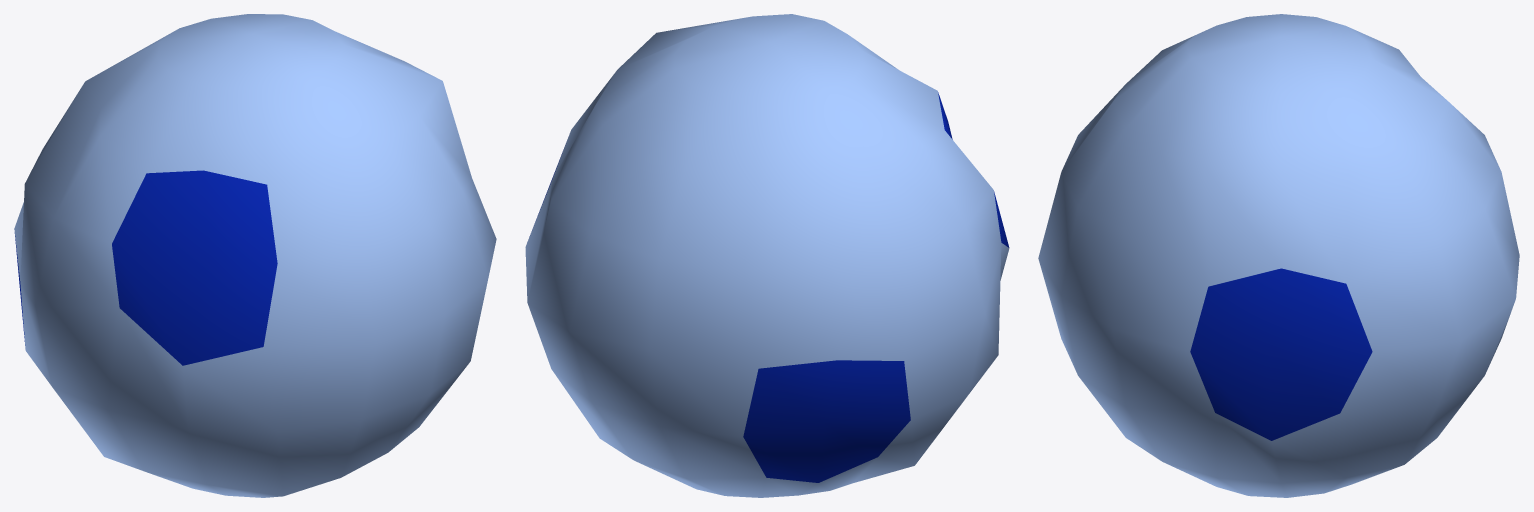
The model's file is Orb.fbx.
3 views of the same model, side by side, from view 1: azimuth 30°, elevation 25°; view 2: azimuth 150°, elevation 25°; view 3: azimuth 270°, elevation 25° (orthographic).
Parts seen in each view (by area): view 1: Orb; view 2: Orb; view 3: Orb.
Part boxes in pixels (box(x1,y1,x2,y2)): Orb: box(14, 14, 496, 497); Orb: box(525, 14, 1009, 497); Orb: box(1038, 14, 1519, 497).
Bounding box in the file's own units: 600 × 600 × 600.
